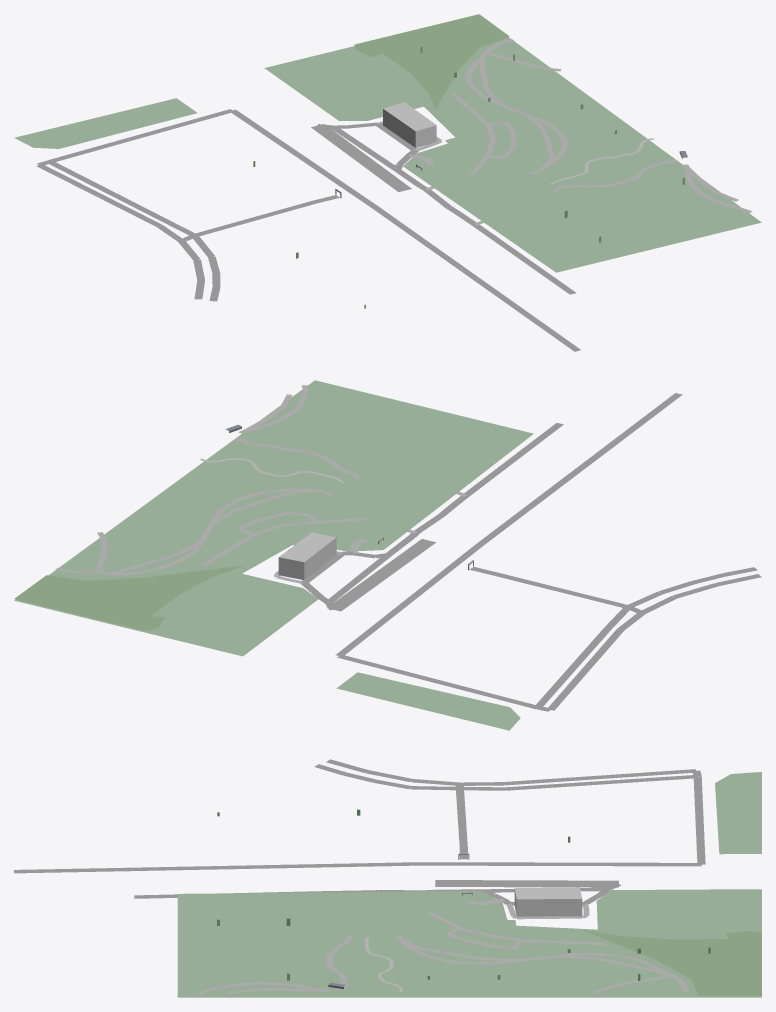
The picture shows the model from 3 angles, top to bottom: view 1: azimuth 30°, elevation 25°; view 2: azimuth 150°, elevation 25°; view 3: azimuth 270°, elevation 25°; orthographic projection. The views are drawn at different scales.
Size of the model in its own units: 508 by 26.82 by 640.
